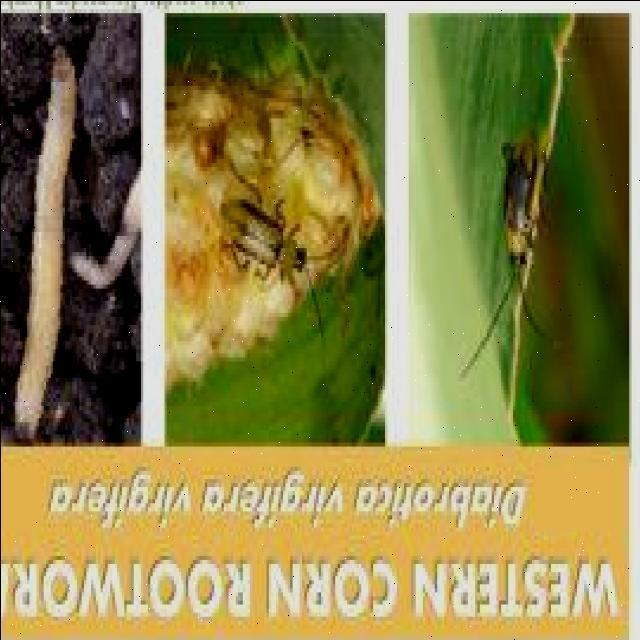trips: (220, 155, 346, 347), (457, 132, 542, 382)
